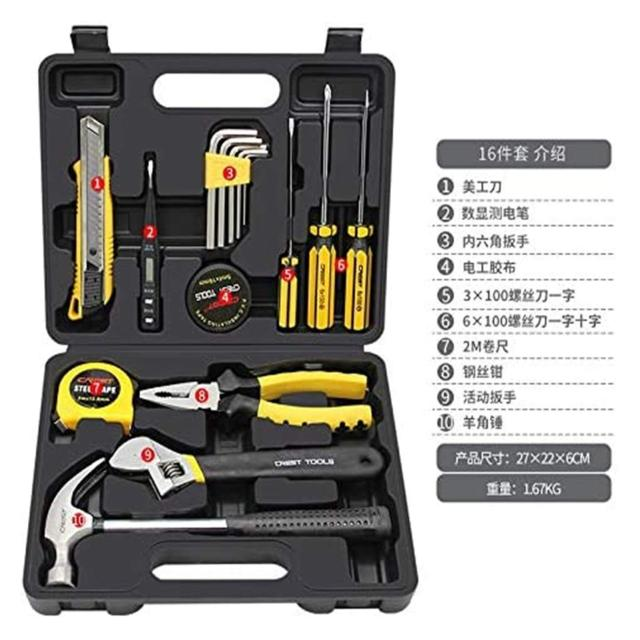Screwdriver: (306, 84, 338, 329), (344, 90, 374, 331), (278, 118, 299, 330), (139, 160, 161, 332)
